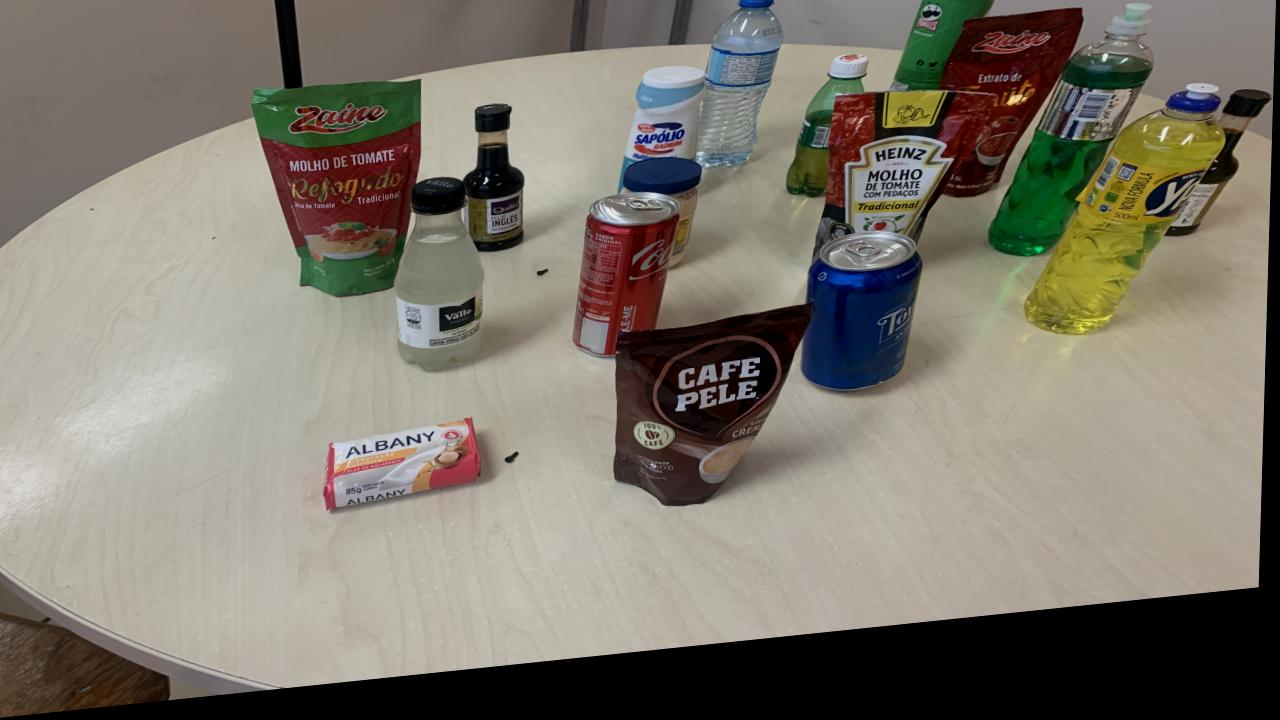Cleaner-Cleanup_Items: (625, 80, 707, 185)
Coffee-Pantry_Items: (617, 321, 813, 521)
Coke-Drinks: (576, 205, 681, 371)
Detergent-Cleanup_Items: (1028, 110, 1226, 358), (990, 27, 1156, 279)
English_Sauce-Pantry_Items: (1169, 116, 1272, 262), (465, 114, 526, 263)
Guarana-Drinks: (789, 72, 869, 216)
Mayonnaise-Pantry_Items: (624, 171, 704, 282)
Pringles-Snacks: (891, 0, 1003, 112)
Soap-Cleanup_Items: (327, 429, 483, 518), (692, 407, 697, 409)
Soda-Drinks: (397, 187, 487, 380)
Tomato_Sauce-Pantry_Items: (252, 87, 423, 304), (817, 110, 998, 274), (941, 32, 1084, 219)
Tonic-Drinks: (804, 250, 924, 410)
Water_Bottle-Drinks: (697, 2, 785, 184)
